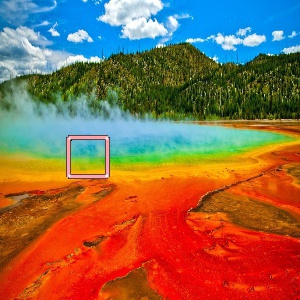square: (64, 134, 112, 179)
